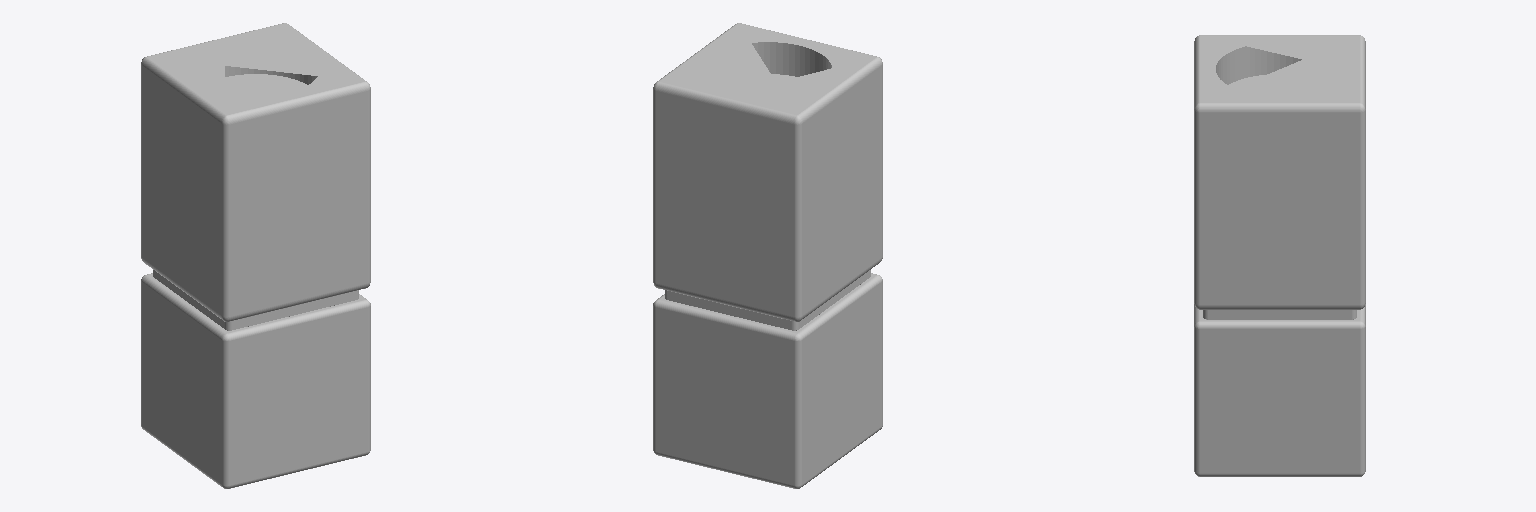
File: tallLightHoleSquare.obj
3 views of the same model, side by side, from view 1: azimuth 30°, elevation 25°; view 2: azimuth 150°, elevation 25°; view 3: azimuth 270°, elevation 25° (orthographic).
Visible parts, largest first — view 1: Cube.002_Cube.001, Cube_Cube.002, Cube.001_Cube.003; view 2: Cube.002_Cube.001, Cube_Cube.002, Cube.001_Cube.003; view 3: Cube.002_Cube.001, Cube_Cube.002, Cube.001_Cube.003.
Boxes of the visible parts, box(x1,y1,x2,y2) form: Cube.002_Cube.001: box(141, 23, 370, 321); Cube_Cube.002: box(141, 273, 370, 488); Cube.001_Cube.003: box(153, 270, 358, 330); Cube.002_Cube.001: box(653, 23, 882, 321); Cube_Cube.002: box(653, 273, 882, 488); Cube.001_Cube.003: box(665, 270, 870, 330); Cube.002_Cube.001: box(1194, 35, 1365, 309); Cube_Cube.002: box(1194, 304, 1365, 476); Cube.001_Cube.003: box(1203, 310, 1356, 319).
Bounding box in the file's own units: 2 × 4.81 × 2.